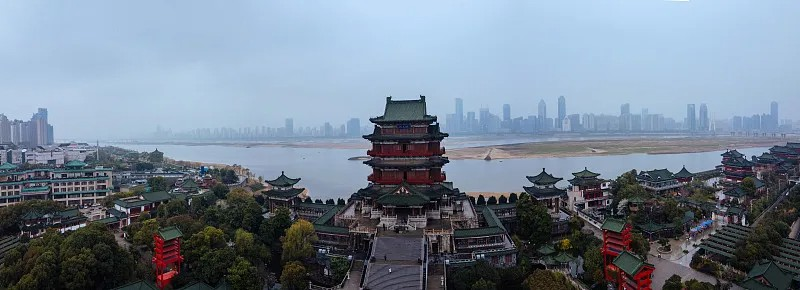Teng: (350, 96, 466, 218)
